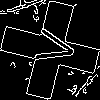V: (25, 25, 78, 69)
